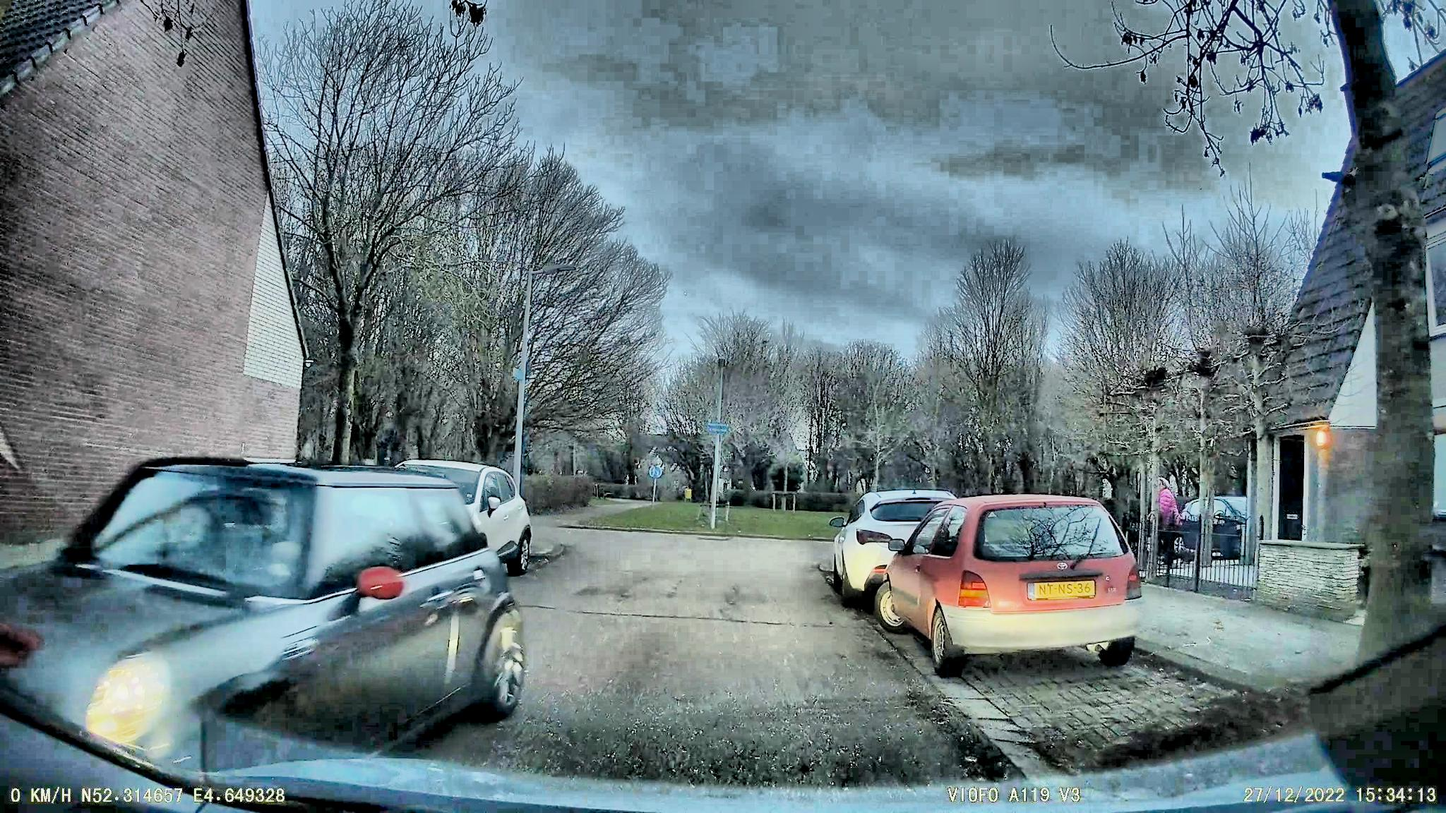Roads: (449, 534, 1334, 806)
